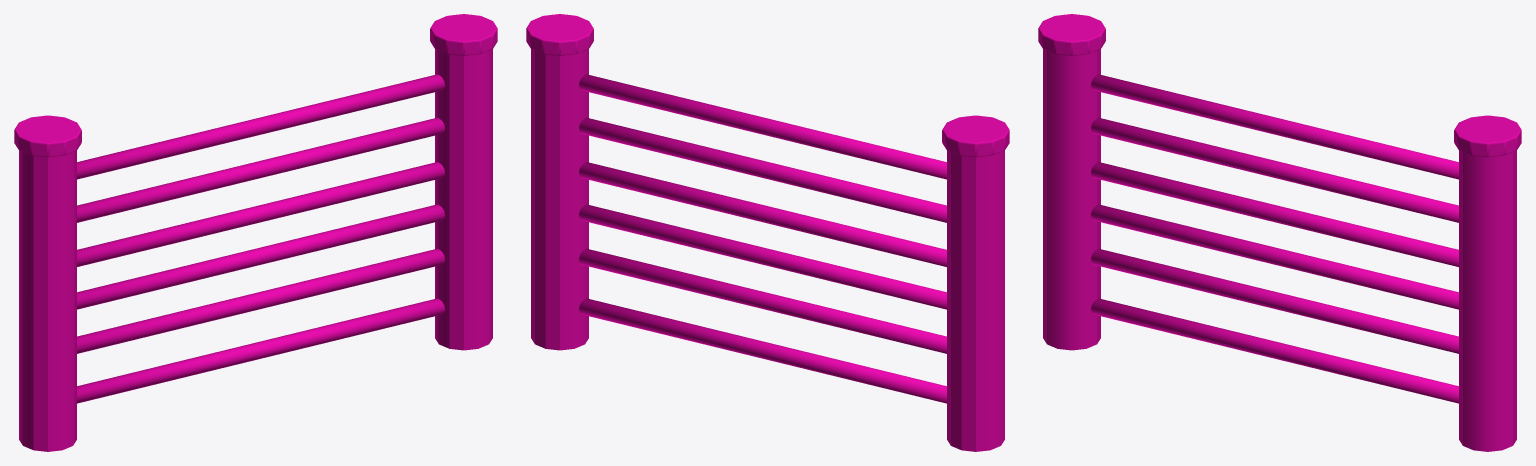
Rendered from Grill.fbx.
3 views of the same model, side by side, from view 1: azimuth 30°, elevation 25°; view 2: azimuth 150°, elevation 25°; view 3: azimuth 330°, elevation 25° (orthographic).
Parts seen in each view (by area): view 1: Cylinder.001; view 2: Cylinder.001; view 3: Cylinder.001.
Boxes of the visible parts, x1,y1,x2,y2 form: Cylinder.001: (14, 14, 497, 451); Cylinder.001: (526, 14, 1009, 451); Cylinder.001: (1038, 14, 1521, 451).
Size of the model in its own units: 227 by 142 by 28.05.
